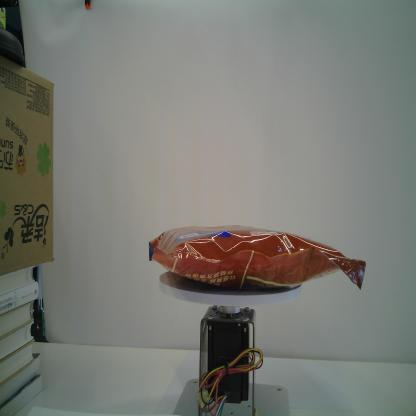Dried Food: (149, 224, 367, 291)
